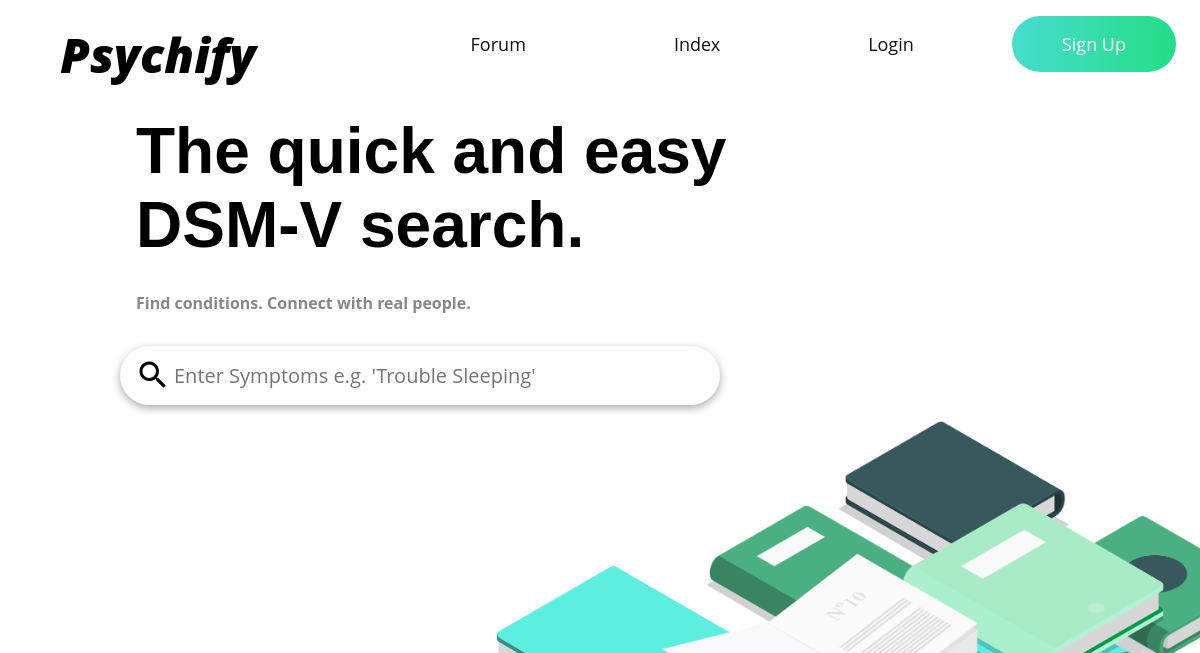
test registration failure › register existing user and fails
Click the link to "/registration" at {"x": 1094, "y": 44}, box [1012,16,1176,72]
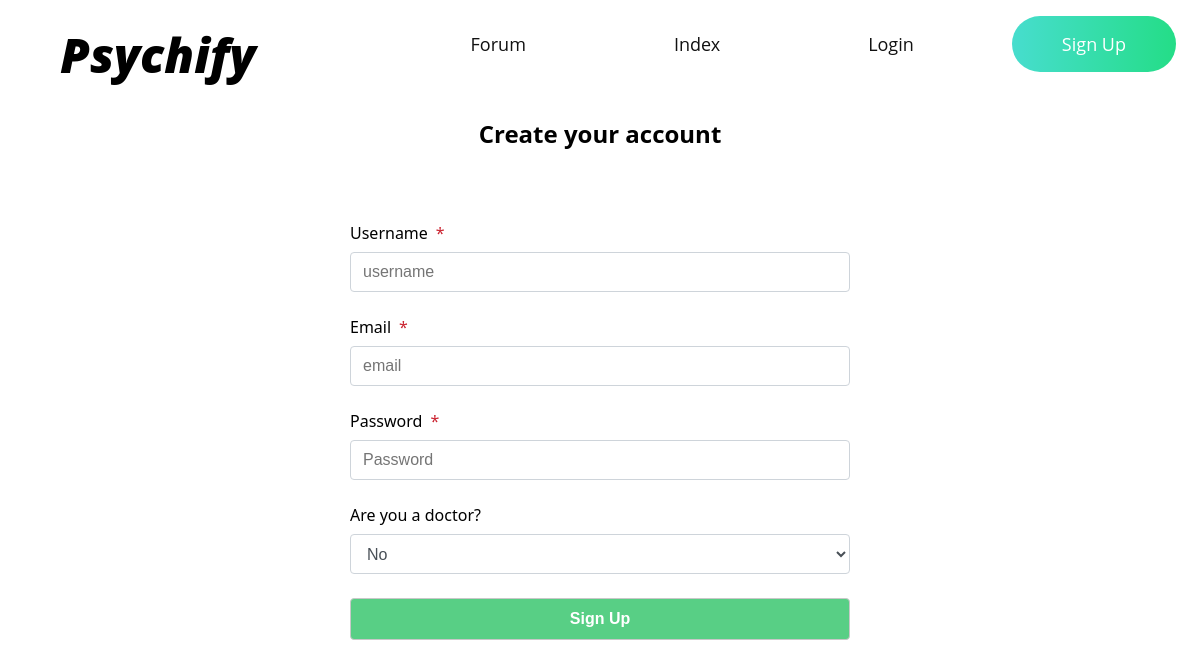
Type "test" into the field with id "inputUsername" at {"x": 600, "y": 272}, box [350,252,850,292]
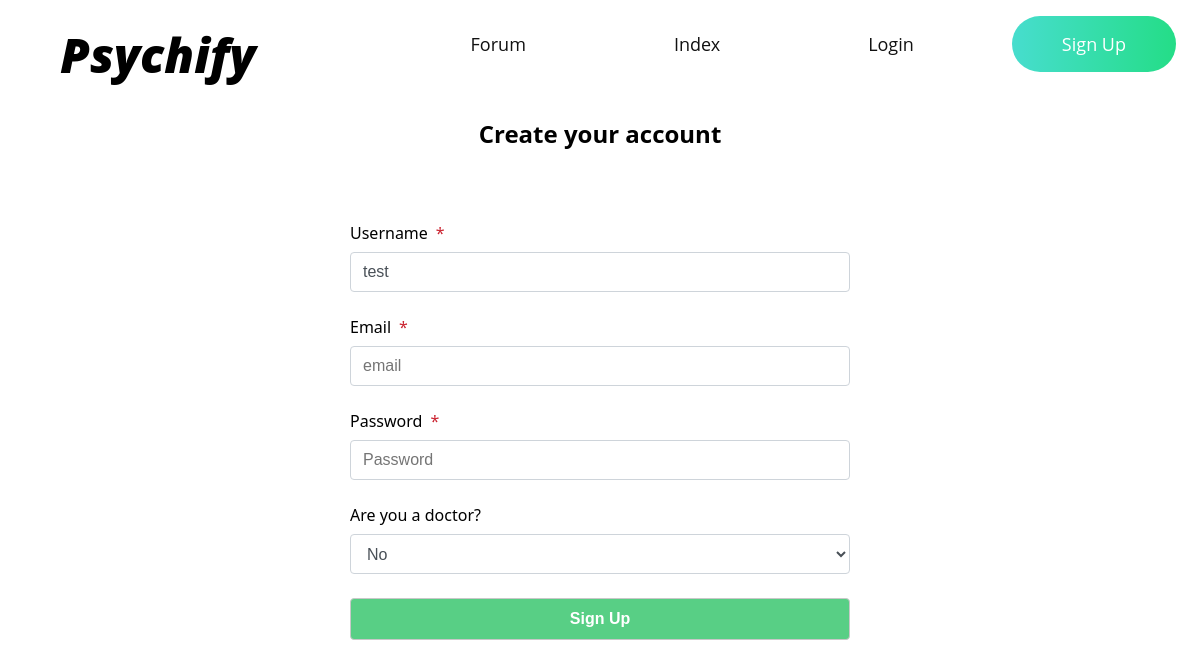
Type "test@test.com" into the field with id "inputEmail" at {"x": 600, "y": 366}, box [350,346,850,386]
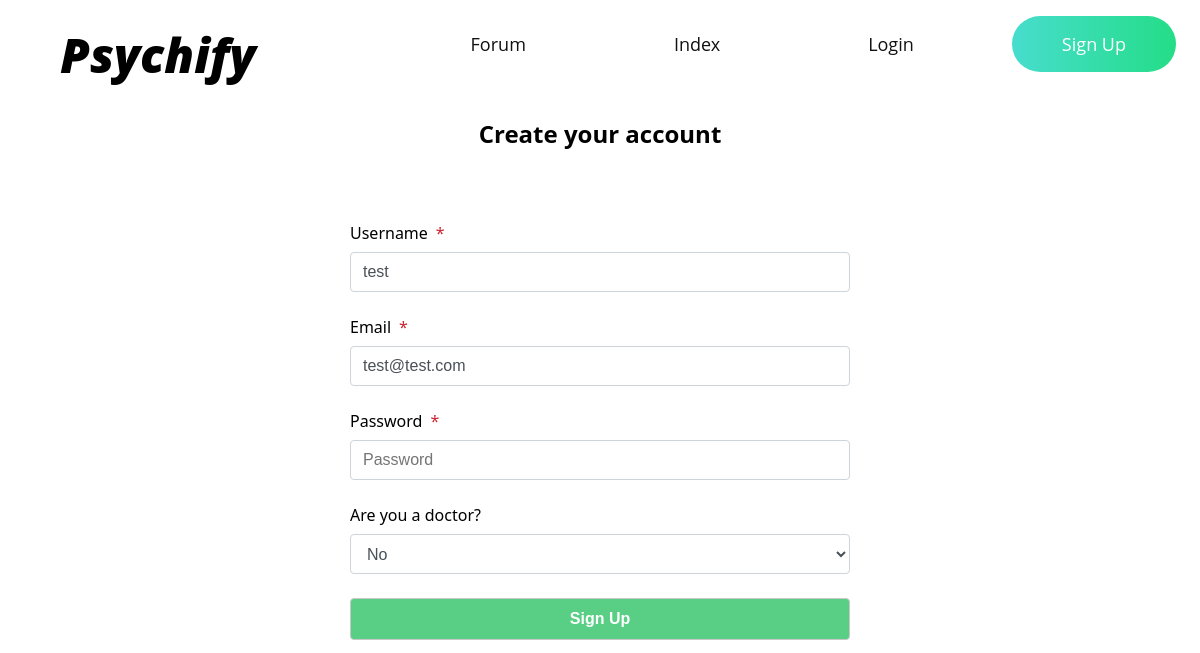
Type "test" into the password field with id "inputPassword" at {"x": 600, "y": 460}, box [350,440,850,480]
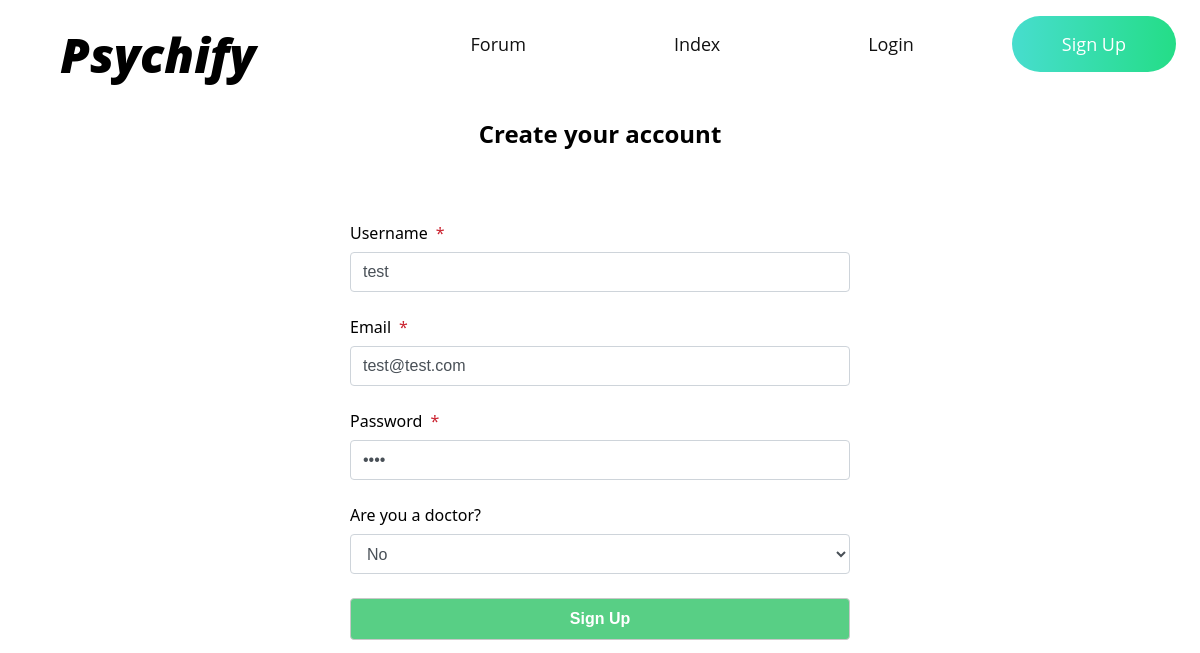
Click the button with class "btn-block" at {"x": 600, "y": 619}, box [350,598,850,640]
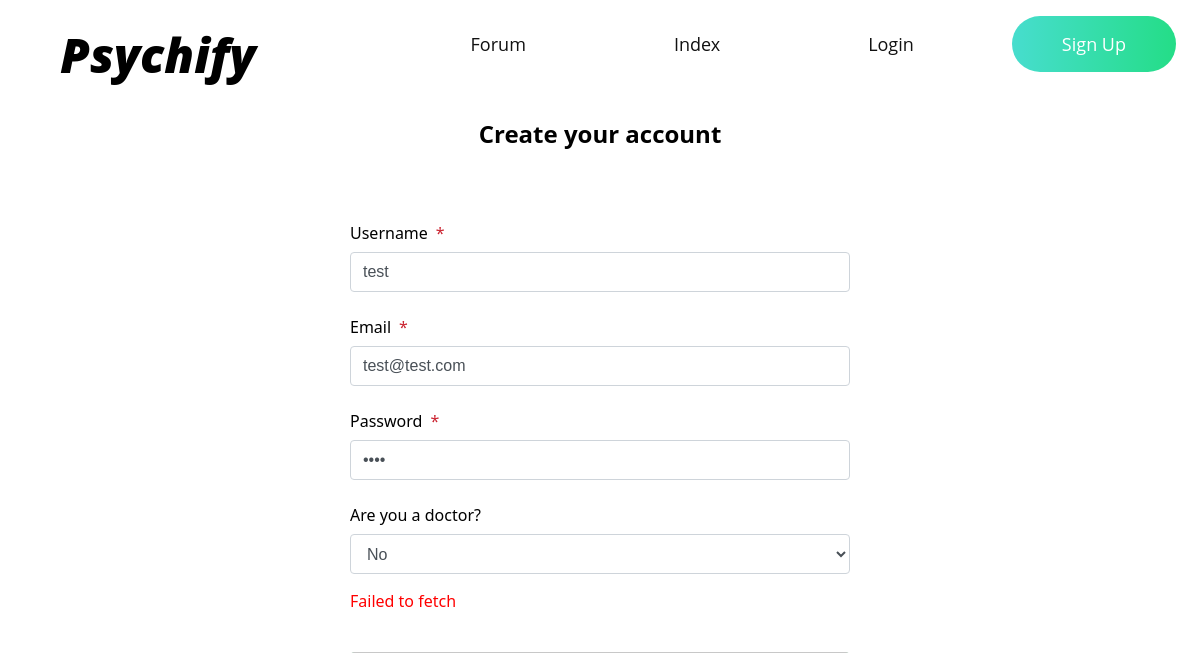
Expected: the text "Failed to fetch" is shown, [350,590,456,612]
